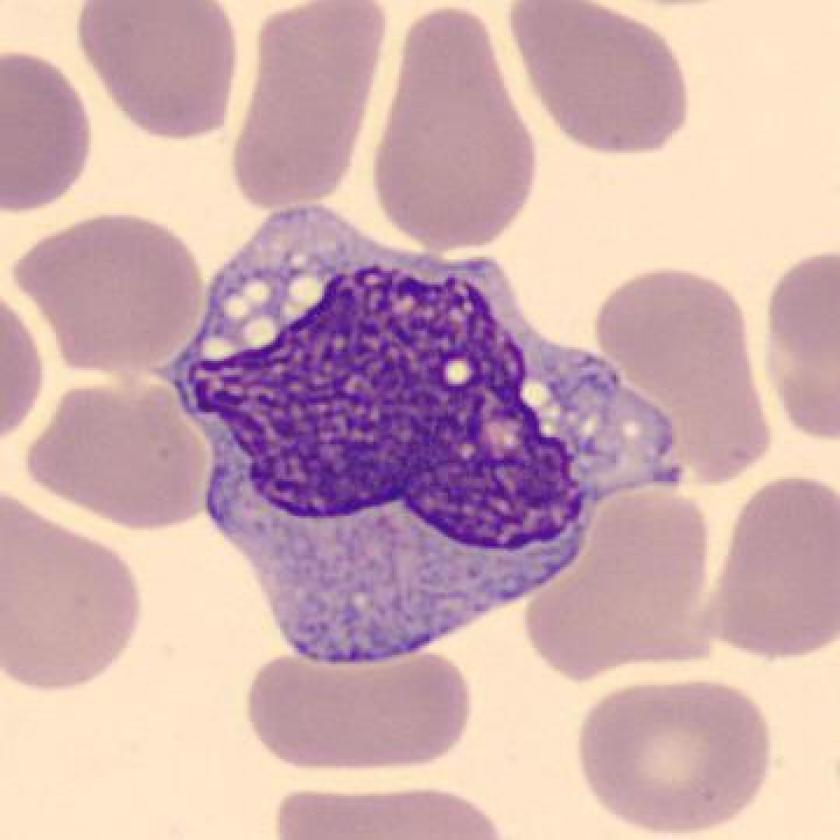monocyte: (150, 184, 701, 677)
